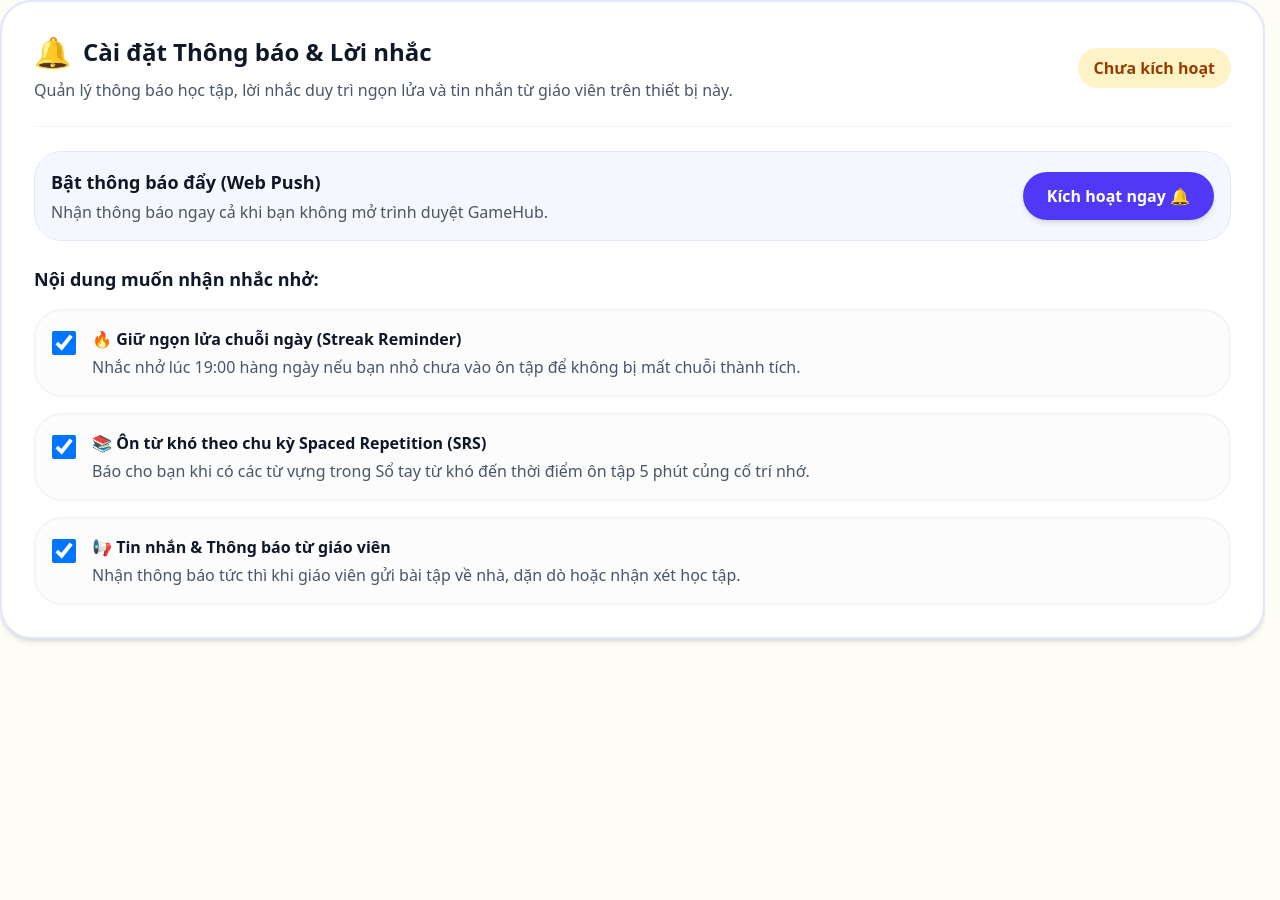
it: Push Notification UI Components & Typography Compliance › PushPreferencesCard › handles preference toggle updates on checkbox click
This screenshot has width=1280, height=900.
Step 1. Click the 1st checkbox → (64, 343), box [52,331,76,355]
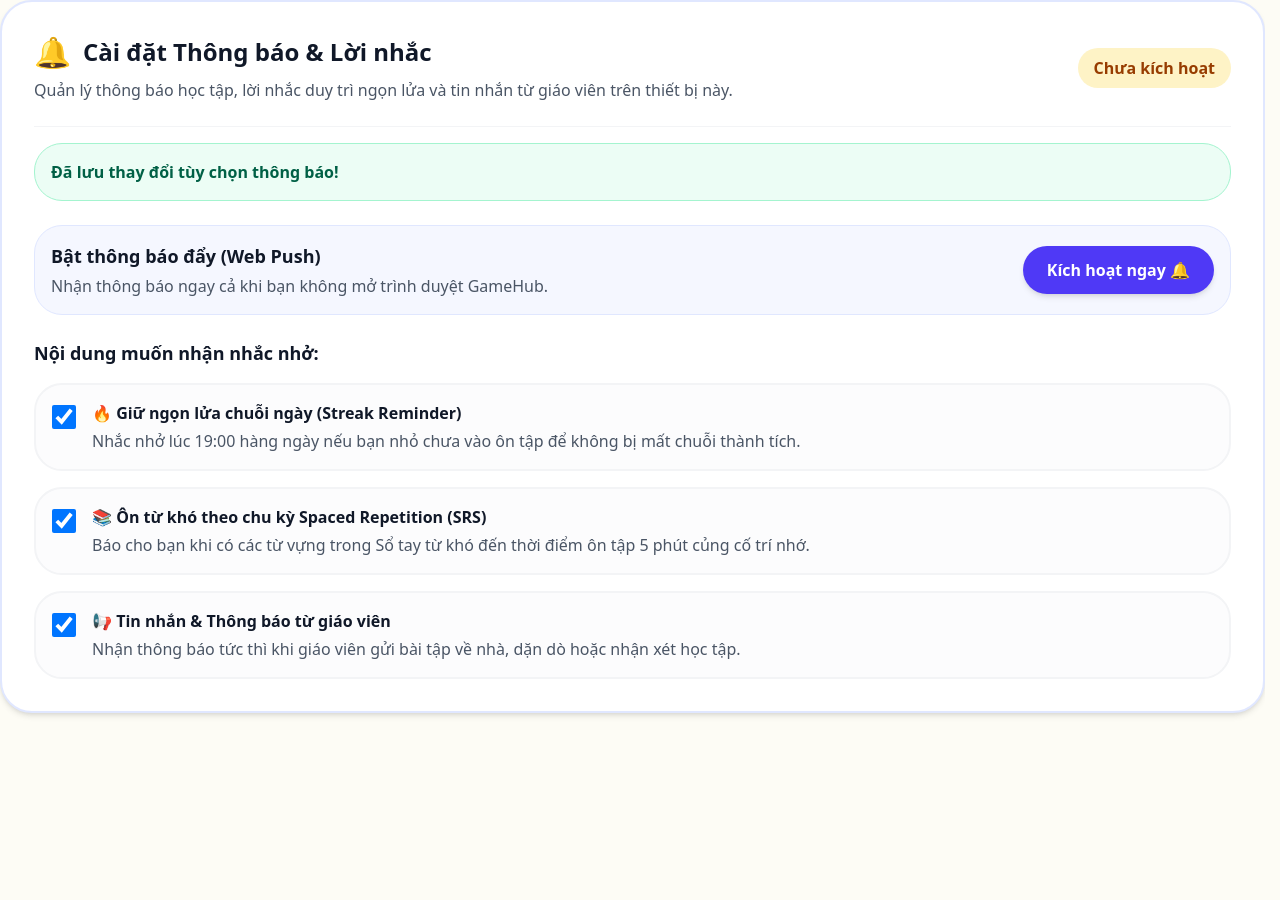
Check: the text "Đã lưu thay đổi tùy chọn thông báo!" is shown, box [34,143,1231,201]
